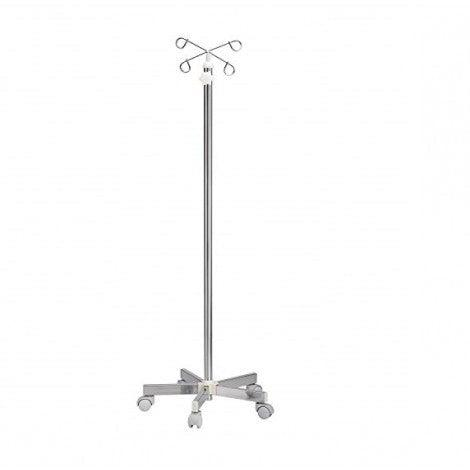Saline Stand: (135, 34, 275, 429)
